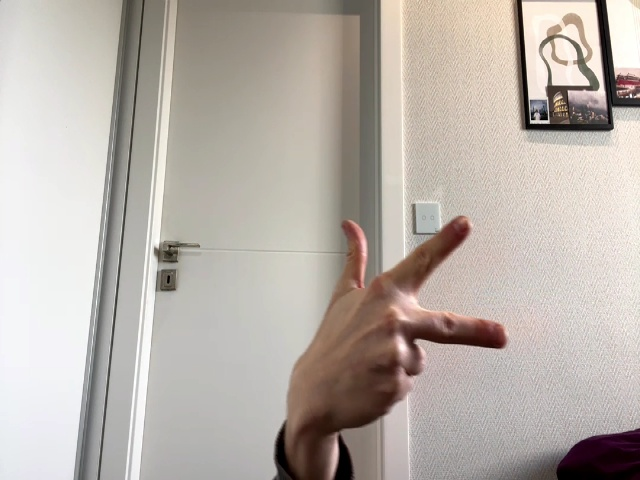K: (305, 216, 509, 433)
